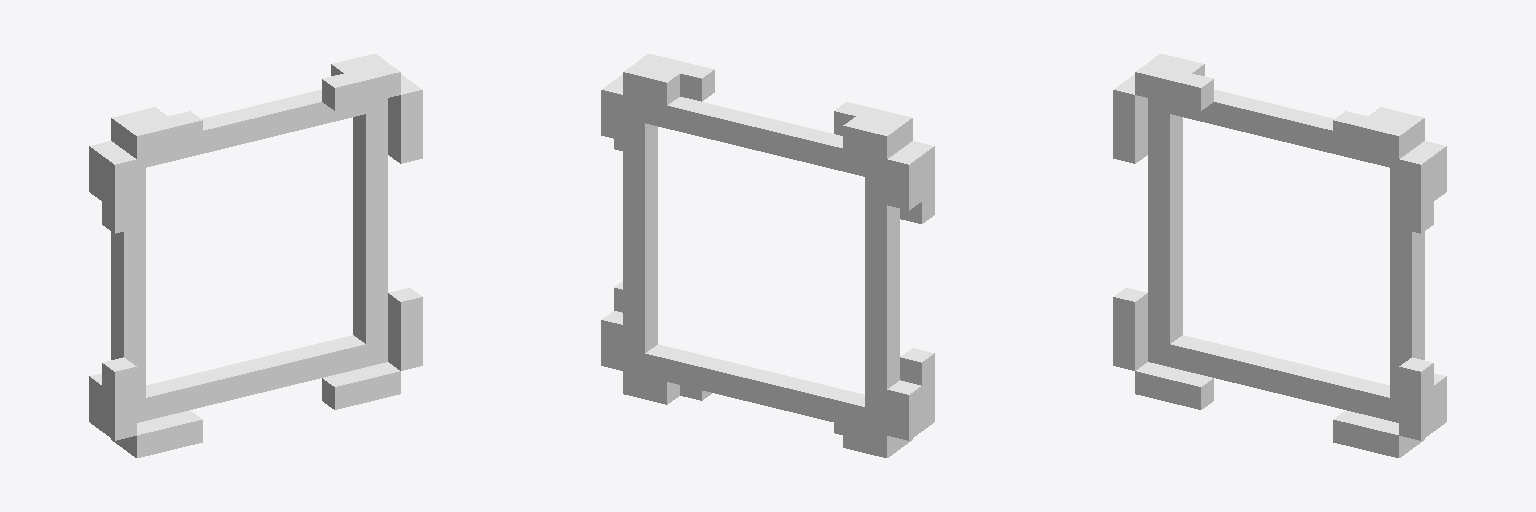
Rendered from glass_zm.obj.
The picture shows the model from 3 angles: view 1: azimuth 30°, elevation 25°; view 2: azimuth 150°, elevation 25°; view 3: azimuth 330°, elevation 25°; orthographic projection.
Size of the model in its own units: 14 by 14 by 2.